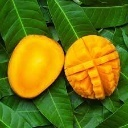mango: (8, 35, 65, 98)
